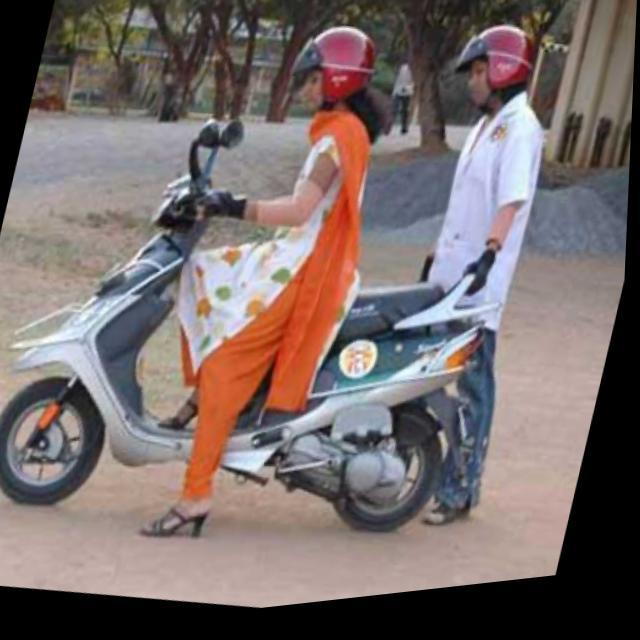Helmet: (283, 19, 380, 127), (443, 20, 541, 111)
